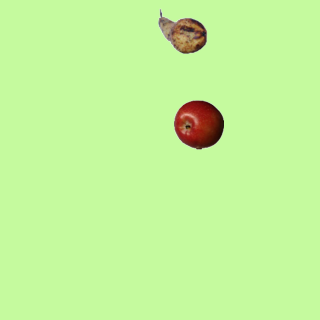Apple Braeburn: (173, 99, 223, 149)
Pear Abate: (157, 6, 207, 56)
